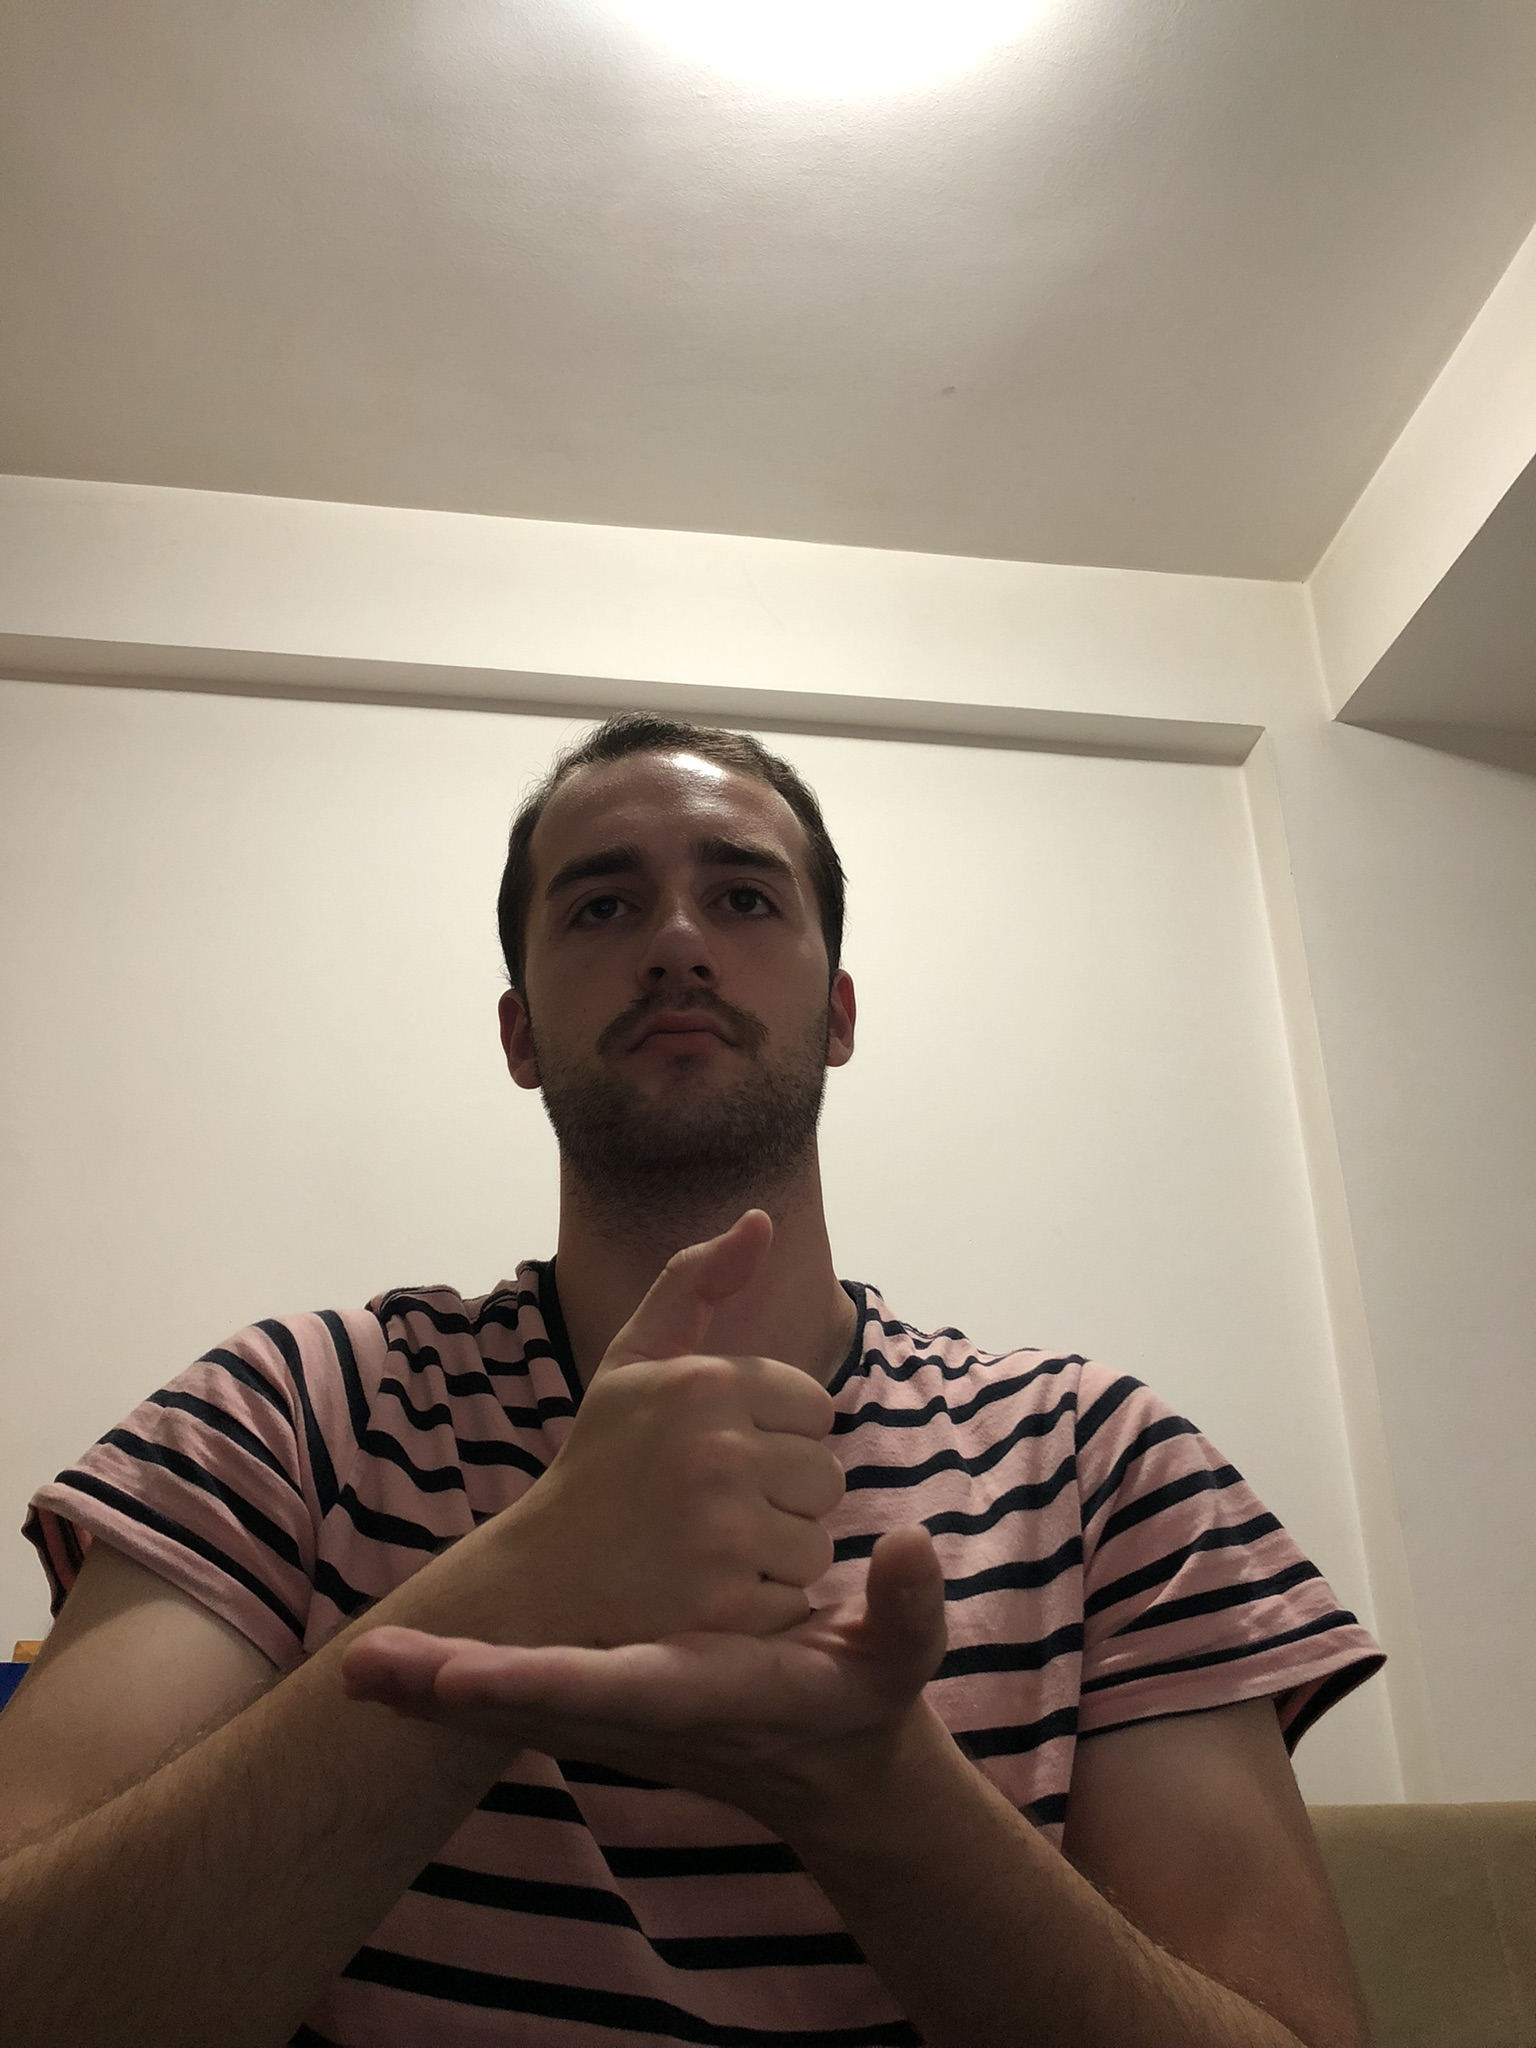Help: (332, 1192, 962, 1806)
